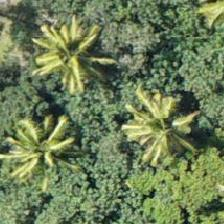coconut_tree: (23, 14, 113, 104), (111, 82, 201, 172), (0, 105, 83, 195)
